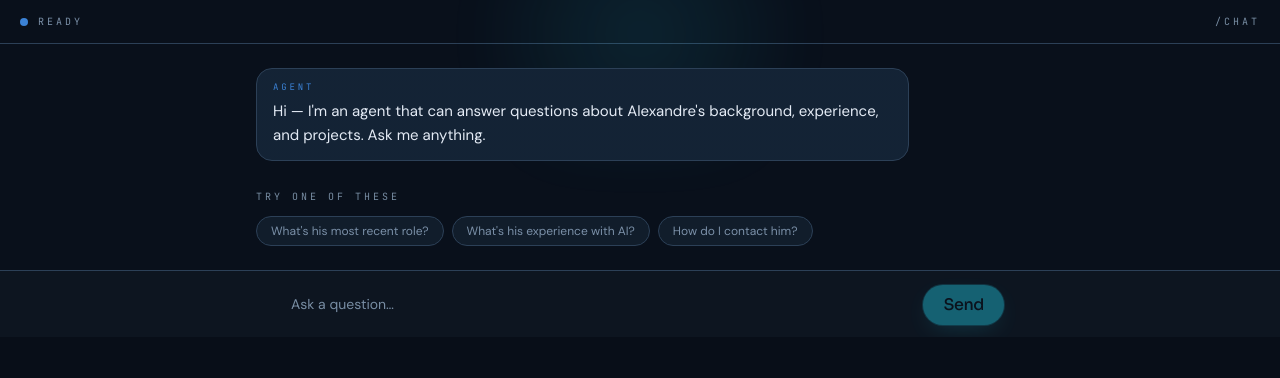
Scenario: Chat — history fetch racing a visitor message › delayed 404 + visitor already chatting → the stored id is NOT swapped
Type "Hello, tell me about Alexandre" into the text box with placeholder "Ask a question…".
click(596, 304); type("Hello, tell me about Alexandre")  # box [276,283,915,325]
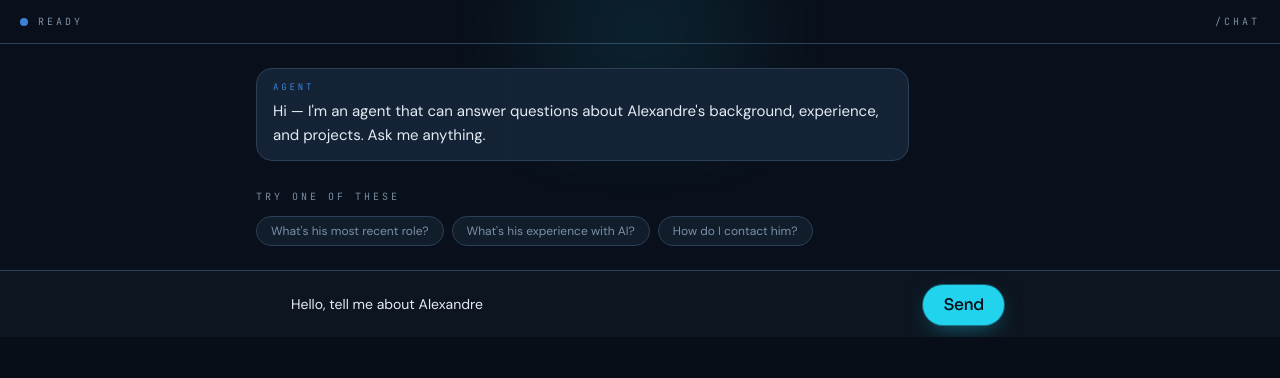
Press Enter in the text box with placeholder "Ask a question…", box [276,283,915,325]
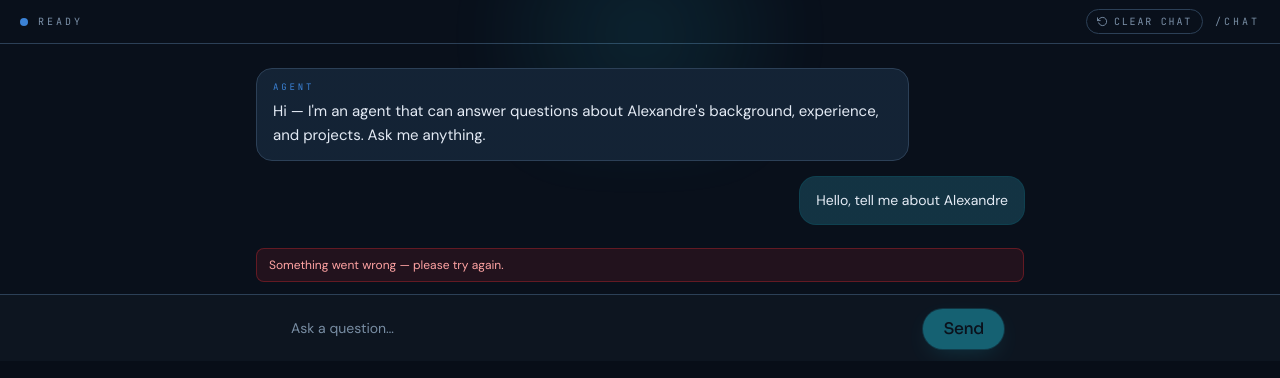
Now the text "Hello, tell me about Alexandre" is shown, box [816,189,1008,212]
